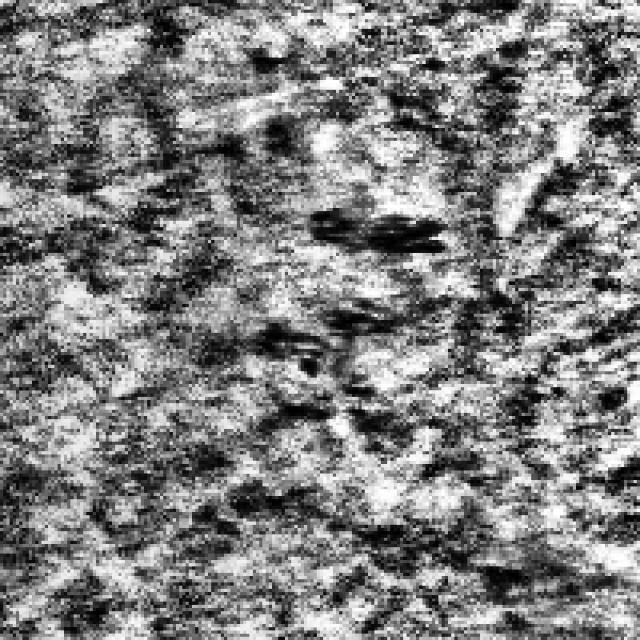Crazing: (214, 272, 403, 509), (300, 195, 442, 259)
